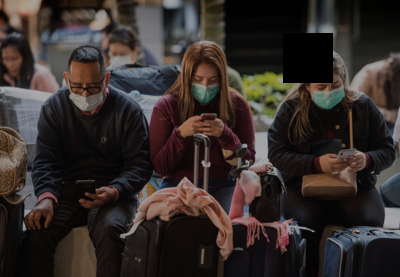with_mask: (69, 80, 107, 114), (311, 80, 346, 110), (191, 73, 221, 106), (108, 49, 134, 67)
without_mask: (3, 53, 23, 77)
